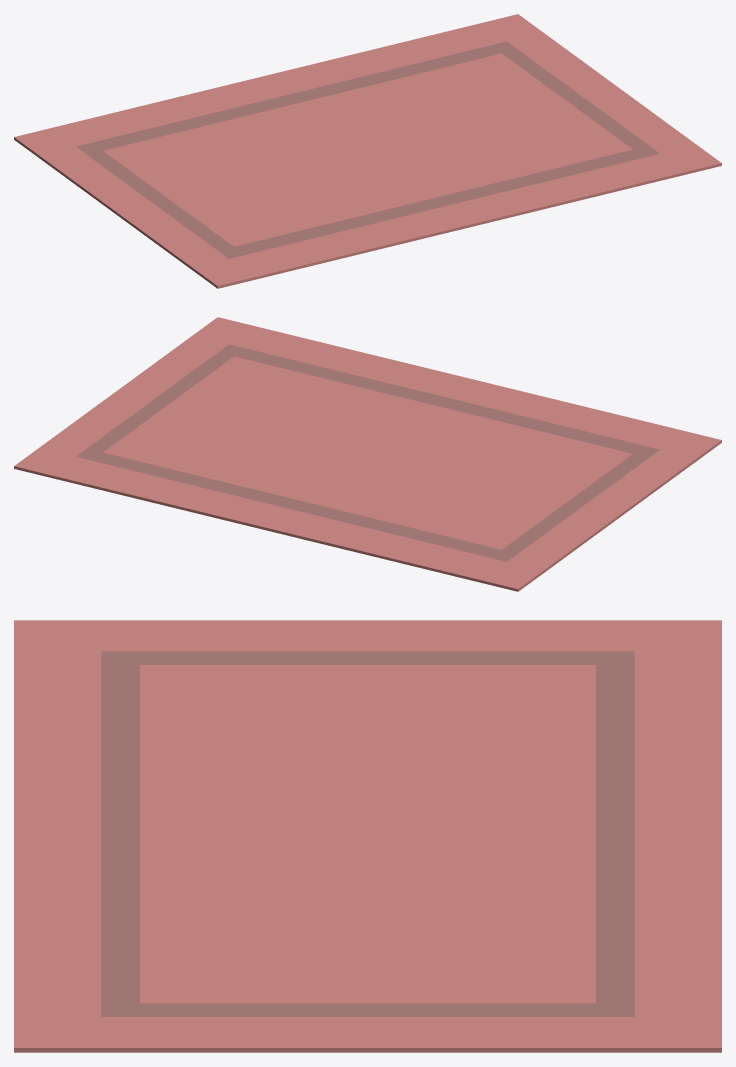
The model's file is rug.glb.
3 views of the same model, one above another, from view 1: azimuth 30°, elevation 25°; view 2: azimuth 150°, elevation 25°; view 3: azimuth 270°, elevation 25° (orthographic). The views are drawn at different scales.
Visible parts, largest first — view 1: rug; view 2: rug; view 3: rug.
Boxes of the visible parts, x1=… form: rug: x1=14, y1=14, x2=721, y2=288; rug: x1=14, y1=317, x2=721, y2=591; rug: x1=14, y1=620, x2=721, y2=1052.
Size of the model in its own units: 2 by 0.01 by 1.4.
